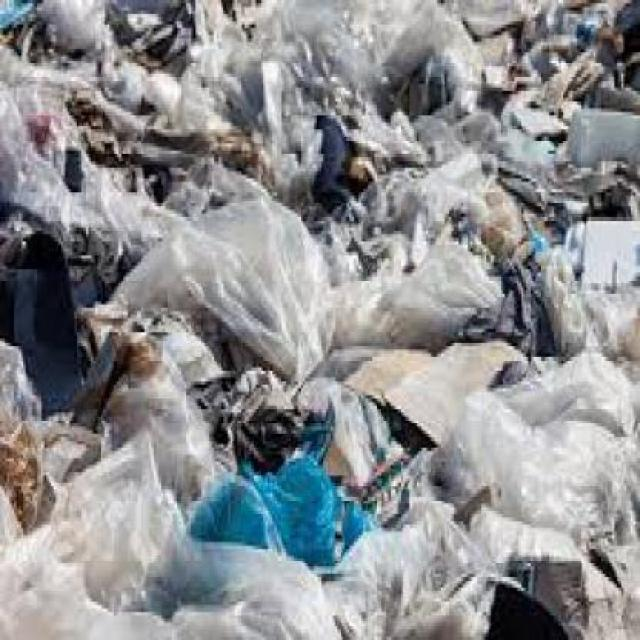PLASTIC: (0, 420, 326, 637), (0, 0, 237, 263), (140, 150, 331, 361), (72, 220, 296, 385), (433, 0, 638, 168), (433, 385, 638, 546), (216, 349, 401, 483), (468, 493, 638, 636), (326, 217, 500, 343), (323, 489, 468, 637), (233, 0, 433, 102), (286, 343, 436, 472), (102, 339, 210, 507), (240, 395, 335, 570), (484, 342, 638, 441), (528, 245, 638, 364), (470, 171, 556, 318), (463, 98, 571, 207), (337, 143, 481, 220), (319, 73, 430, 169), (246, 53, 317, 189), (252, 458, 333, 567), (560, 101, 638, 210), (184, 465, 279, 553), (412, 566, 506, 637), (558, 209, 638, 280), (146, 311, 217, 384), (486, 574, 568, 637), (588, 535, 638, 637), (70, 328, 125, 410), (0, 406, 37, 526), (37, 423, 100, 486), (323, 486, 375, 549), (0, 335, 35, 412)
